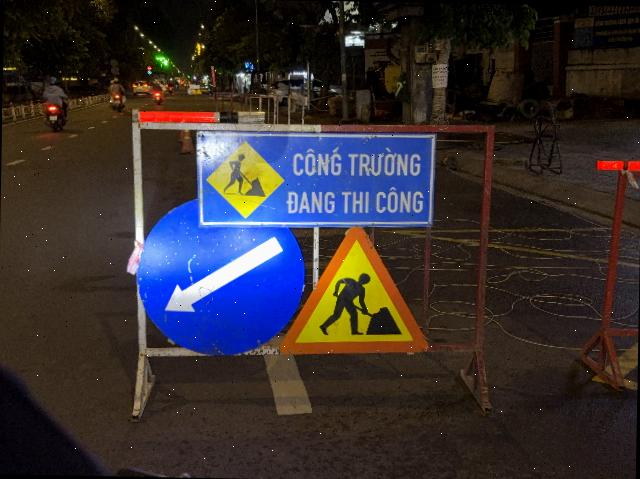cong-truong-dang-thi-cong: (278, 224, 432, 358)
huong-phai-di-vong-chuong-ngai-vat: (134, 196, 306, 357)
